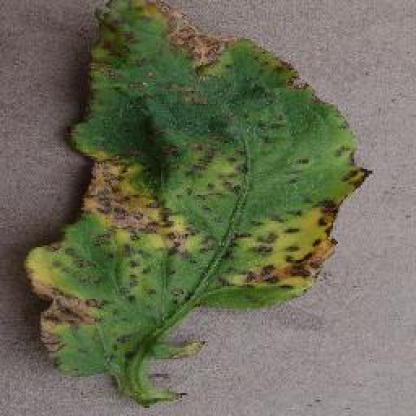bad leaf: (38, 0, 361, 386)
